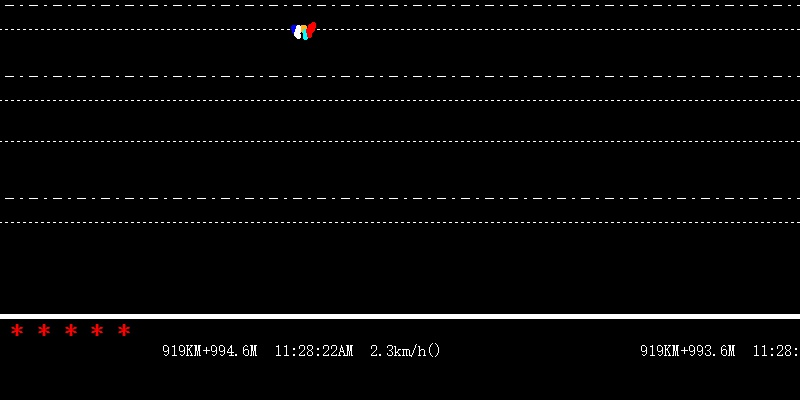face_1: (308, 21, 318, 39)
face_2: (291, 22, 307, 40)
star: (86, 320, 106, 341), (60, 320, 79, 342), (36, 320, 51, 341), (116, 319, 132, 338), (10, 320, 25, 340)
